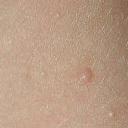Carcinoma: (79, 67, 97, 86)
